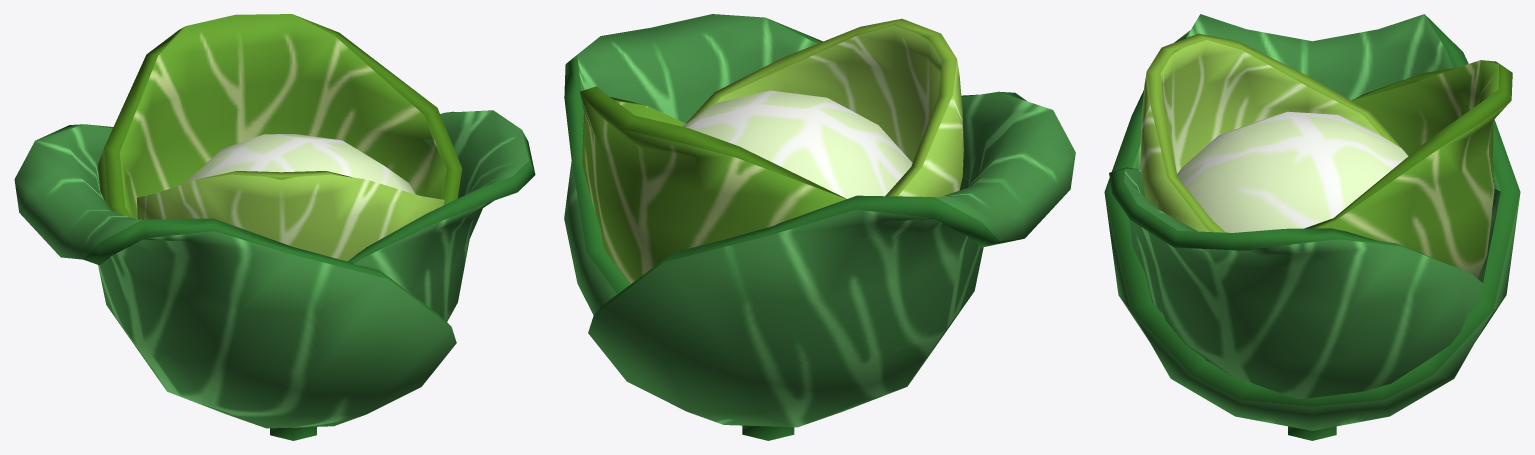
The model's file is Cabbage_all_form.FBX.
The picture shows the model from 3 angles, left to right: view 1: azimuth 30°, elevation 25°; view 2: azimuth 150°, elevation 25°; view 3: azimuth 270°, elevation 25°; orthographic projection. The views are drawn at different scales.
Visible parts, largest first — view 1: Night_cabbage; view 2: Night_cabbage; view 3: Night_cabbage.
Boxes of the visible parts, x1,y1,x2,y2 form: Night_cabbage: (14,14,535,440); Night_cabbage: (564,14,1075,440); Night_cabbage: (1104,14,1520,440).
Size of the model in its own units: 1.53 by 1.14 by 1.21.
